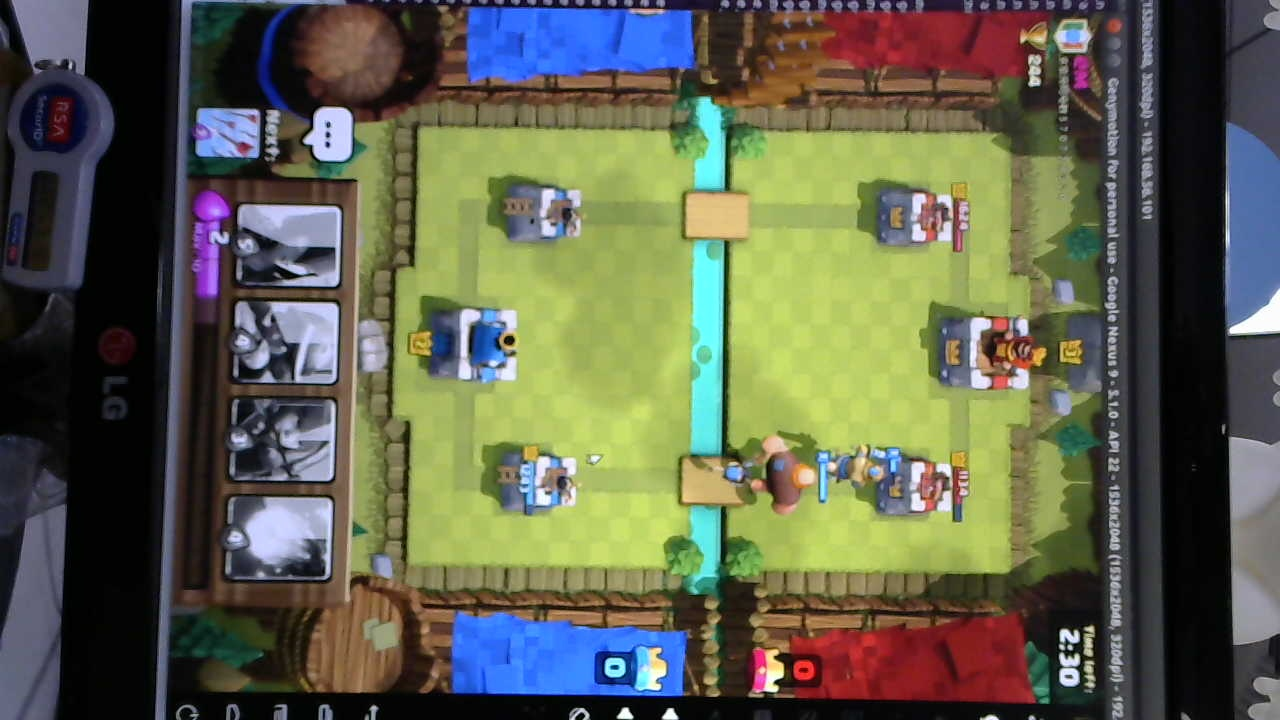arena: (501, 177, 583, 244), (505, 448, 581, 515)
bomb: (719, 457, 752, 490)
earena: (877, 449, 957, 520), (875, 184, 956, 251)
eking: (935, 315, 1036, 392)
giant: (759, 432, 819, 518)
king: (436, 304, 527, 383)
prince: (827, 445, 888, 489)
